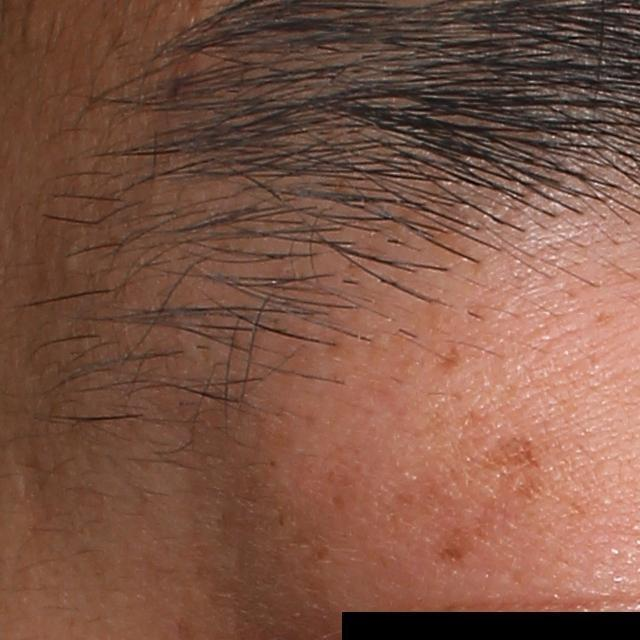melasma: (468, 435, 542, 475), (435, 520, 495, 562), (433, 342, 462, 374), (327, 492, 345, 513), (309, 543, 329, 560)
